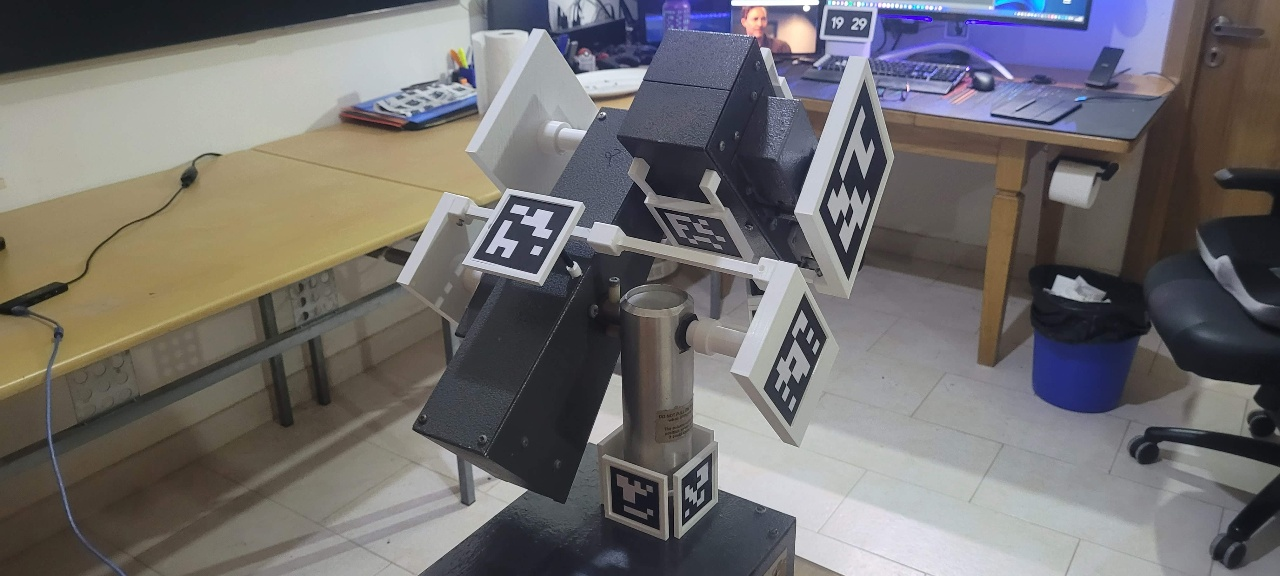Robot: (395, 29, 897, 540)
